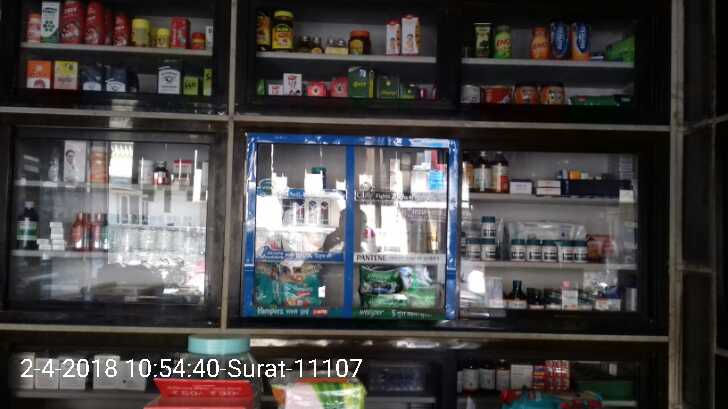vicks: (312, 167, 328, 188)
